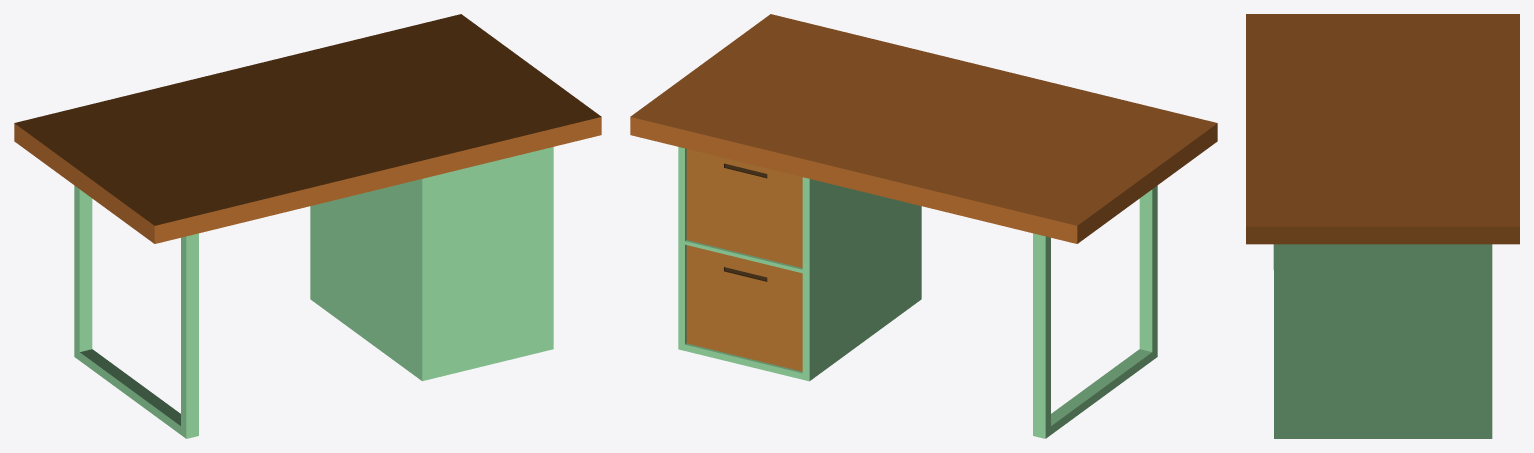
The model's file is Desk 8.fbx.
3 views of the same model, side by side, from view 1: azimuth 30°, elevation 25°; view 2: azimuth 150°, elevation 25°; view 3: azimuth 270°, elevation 25° (orthographic). The views are drawn at different scales.
Visible parts, largest first — view 1: Node 0; view 2: Node 0, Node 2, Node 1; view 3: Node 0.
Part boxes in pixels (left/top/right/bottom): Node 0: left=14, top=14, right=601, bottom=438; Node 0: left=630, top=14, right=1217, bottom=438; Node 2: left=686, top=245, right=802, bottom=371; Node 1: left=686, top=149, right=802, bottom=267; Node 0: left=1246, top=14, right=1519, bottom=438.
Bounding box in the file's own units: 1.04 × 0.9625 × 1.92.
